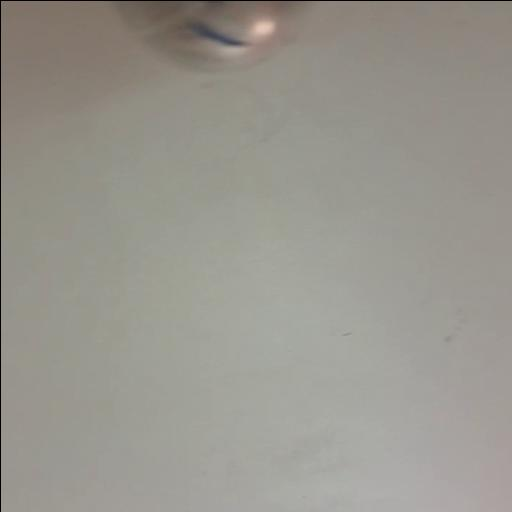alive: (110, 0, 308, 74)
